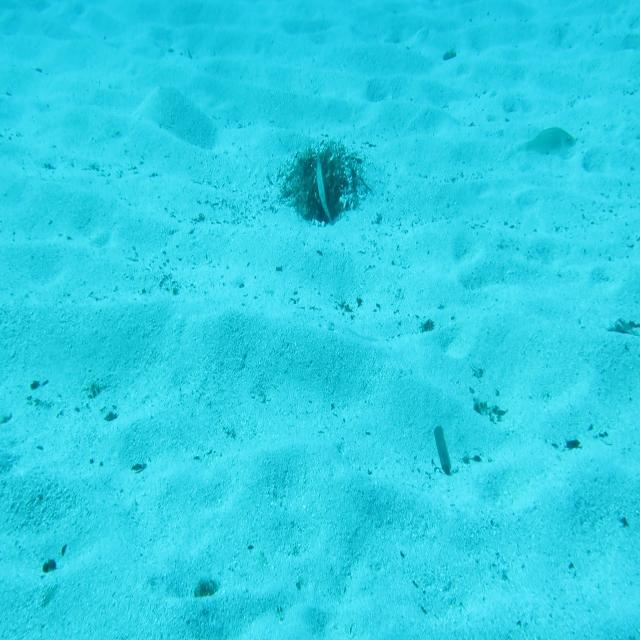FAN: (315, 158, 338, 224)
female: (512, 124, 578, 169)
nest: (280, 137, 368, 220)
vegetation: (434, 419, 453, 473), (605, 316, 640, 336), (192, 578, 220, 602), (442, 48, 458, 64)
